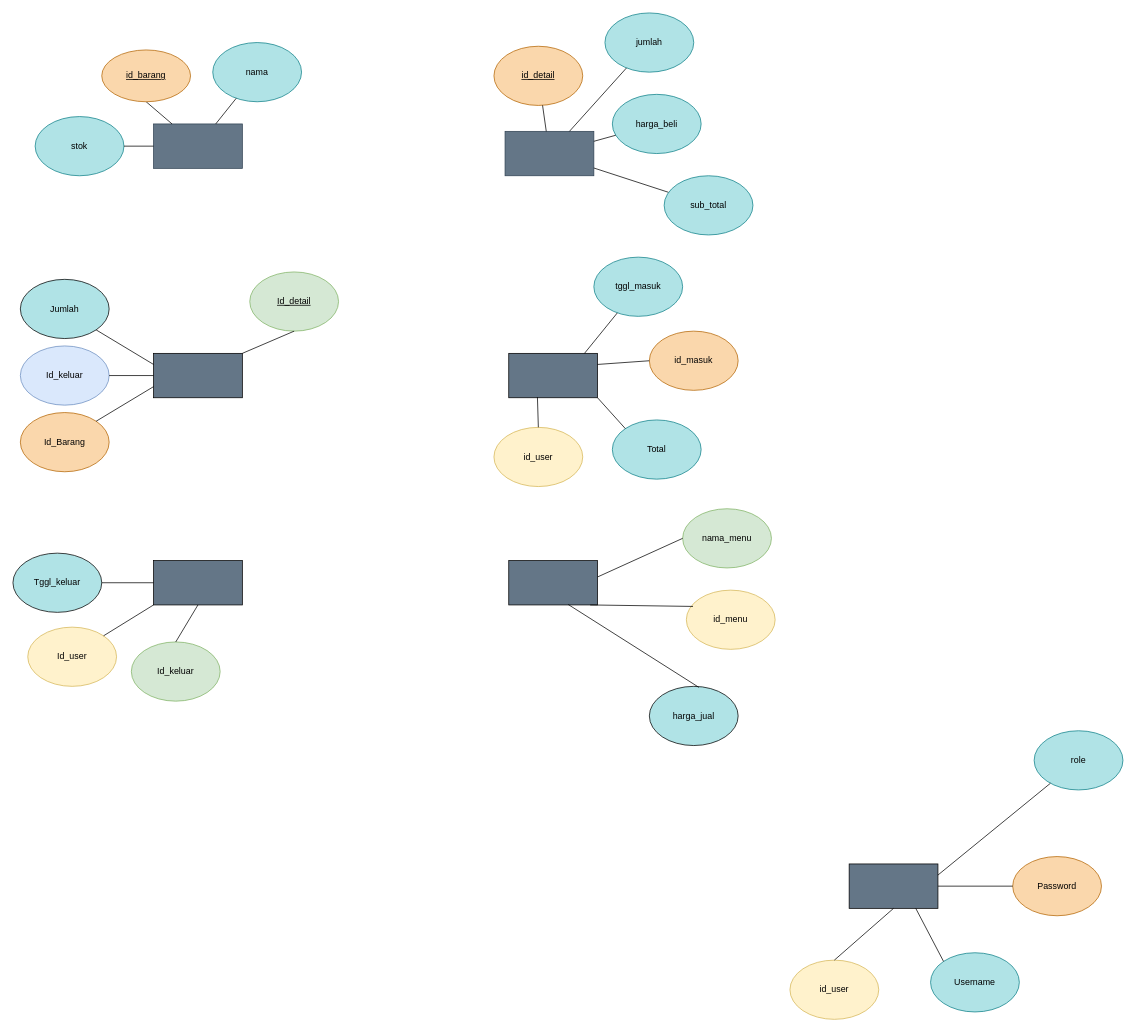
Image size: 1136x1032. Some labels were removed from this diagram. The centre of each missing label's shape, as x and y in pixels:
"Barang" goes at point (197, 145).
"Barang_Keluar" goes at point (197, 582).
"Barang_Masuk" goes at point (553, 375).
"Detail_Keluar" goes at point (197, 375).
"Detail_masuk" goes at point (549, 153).
"menu" goes at point (553, 582).
"User" goes at point (893, 885).
